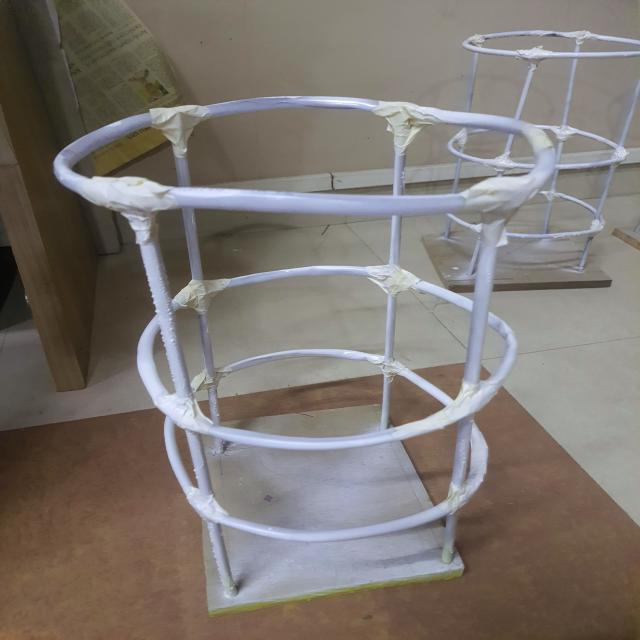silo: (30, 92, 558, 618), (425, 29, 623, 293)
